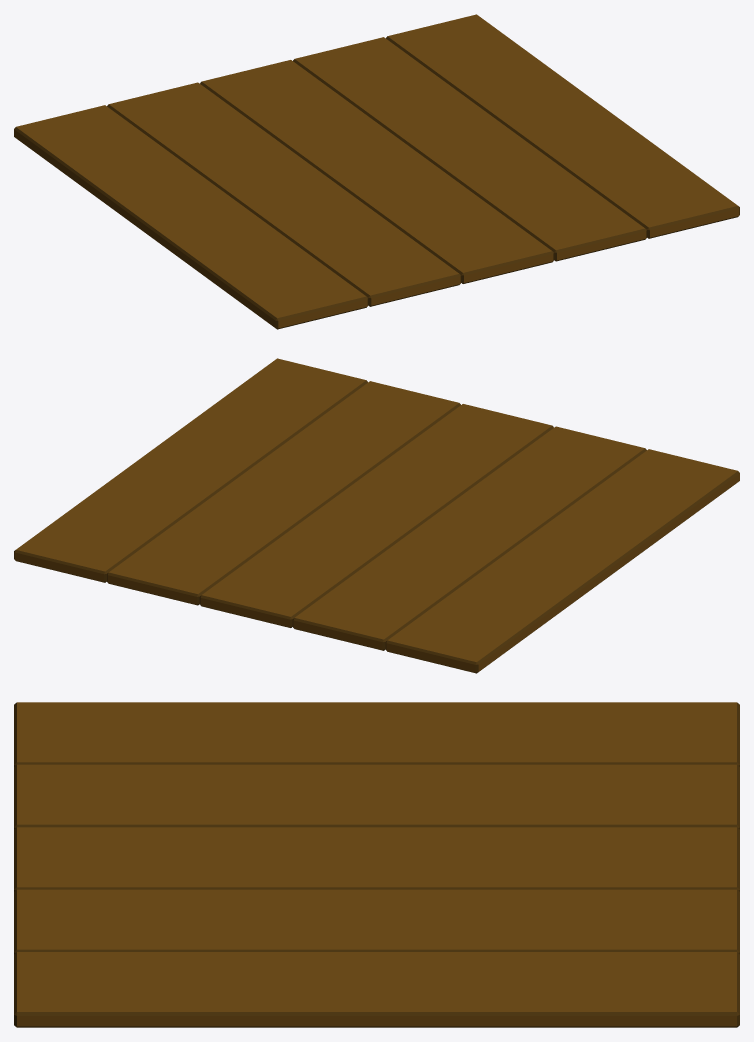
Rendered from House_floor.fbx.
The picture shows the model from 3 angles, top to bottom: view 1: azimuth 30°, elevation 25°; view 2: azimuth 150°, elevation 25°; view 3: azimuth 270°, elevation 25°; orthographic projection. The views are drawn at different scales.
Parts seen in each view (by area): view 1: House_floor; view 2: House_floor; view 3: House_floor.
Boxes of the visible parts, x1,y1,x2,y2 form: House_floor: [14, 14, 739, 329]; House_floor: [14, 358, 739, 673]; House_floor: [14, 702, 739, 1027].
Size of the model in its own units: 267 by 6.22 by 263.
